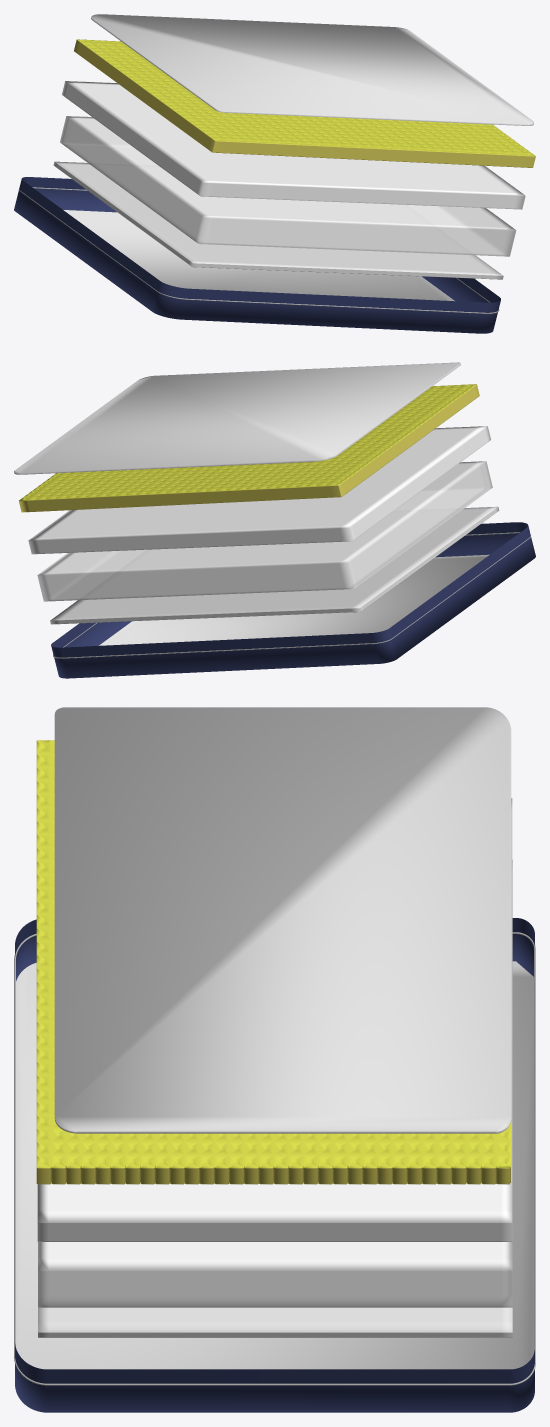
Rendered from Ortho_Latex_O_Pedic.glb.
The picture shows the model from 3 angles, top to bottom: view 1: azimuth 30°, elevation 25°; view 2: azimuth 150°, elevation 25°; view 3: azimuth 270°, elevation 25°; orthographic projection. The views are drawn at different scales.
Visible parts, largest first — view 1: Cube.084, Cube.089, Cube.041, Cube.092, Cube.085, Cube.088; view 2: Cube.084, Cube.089, Cube.041, Cube.092, Cube.085, Cube.088; view 3: Cube.084, Cube.089, Cube.085, Cube.041, Cube.092, Cube.088.
Part boxes in pixels (left/top/right/bottom): Cube.084: left=91, top=14, right=533, bottom=125; Cube.089: left=14, top=177, right=500, bottom=333; Cube.041: left=60, top=116, right=516, bottom=256; Cube.092: left=62, top=81, right=525, bottom=209; Cube.085: left=74, top=39, right=535, bottom=167; Cube.088: left=53, top=161, right=503, bottom=279; Cube.084: left=14, top=362, right=460, bottom=474; Cube.089: left=51, top=522, right=535, bottom=678; Cube.041: left=37, top=461, right=492, bottom=601; Cube.092: left=28, top=426, right=490, bottom=554; Cube.085: left=19, top=384, right=479, bottom=512; Cube.088: left=50, top=506, right=499, bottom=624; Cube.084: left=54, top=707, right=511, bottom=1133; Cube.089: left=14, top=918, right=535, bottom=1412; Cube.085: left=36, top=740, right=510, bottom=1184; Cube.041: left=38, top=860, right=512, bottom=1307; Cube.092: left=37, top=798, right=512, bottom=1241; Cube.088: left=38, top=1307, right=512, bottom=1337.
Bounding box in the file's own units: 16.19 × 11.17 × 11.01.
11 materials, 1 textured.
